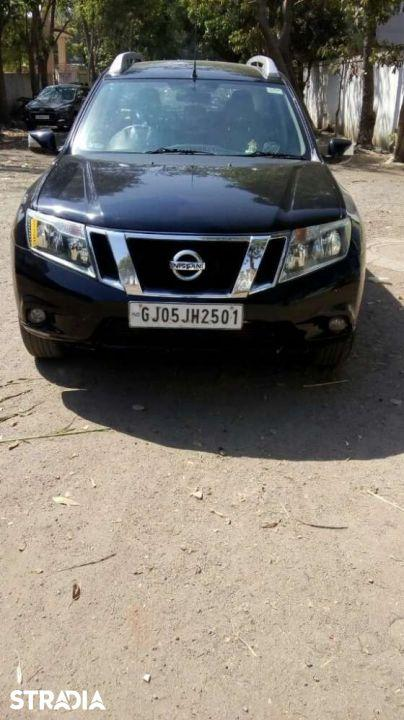License-Plate: (128, 289, 257, 345)
